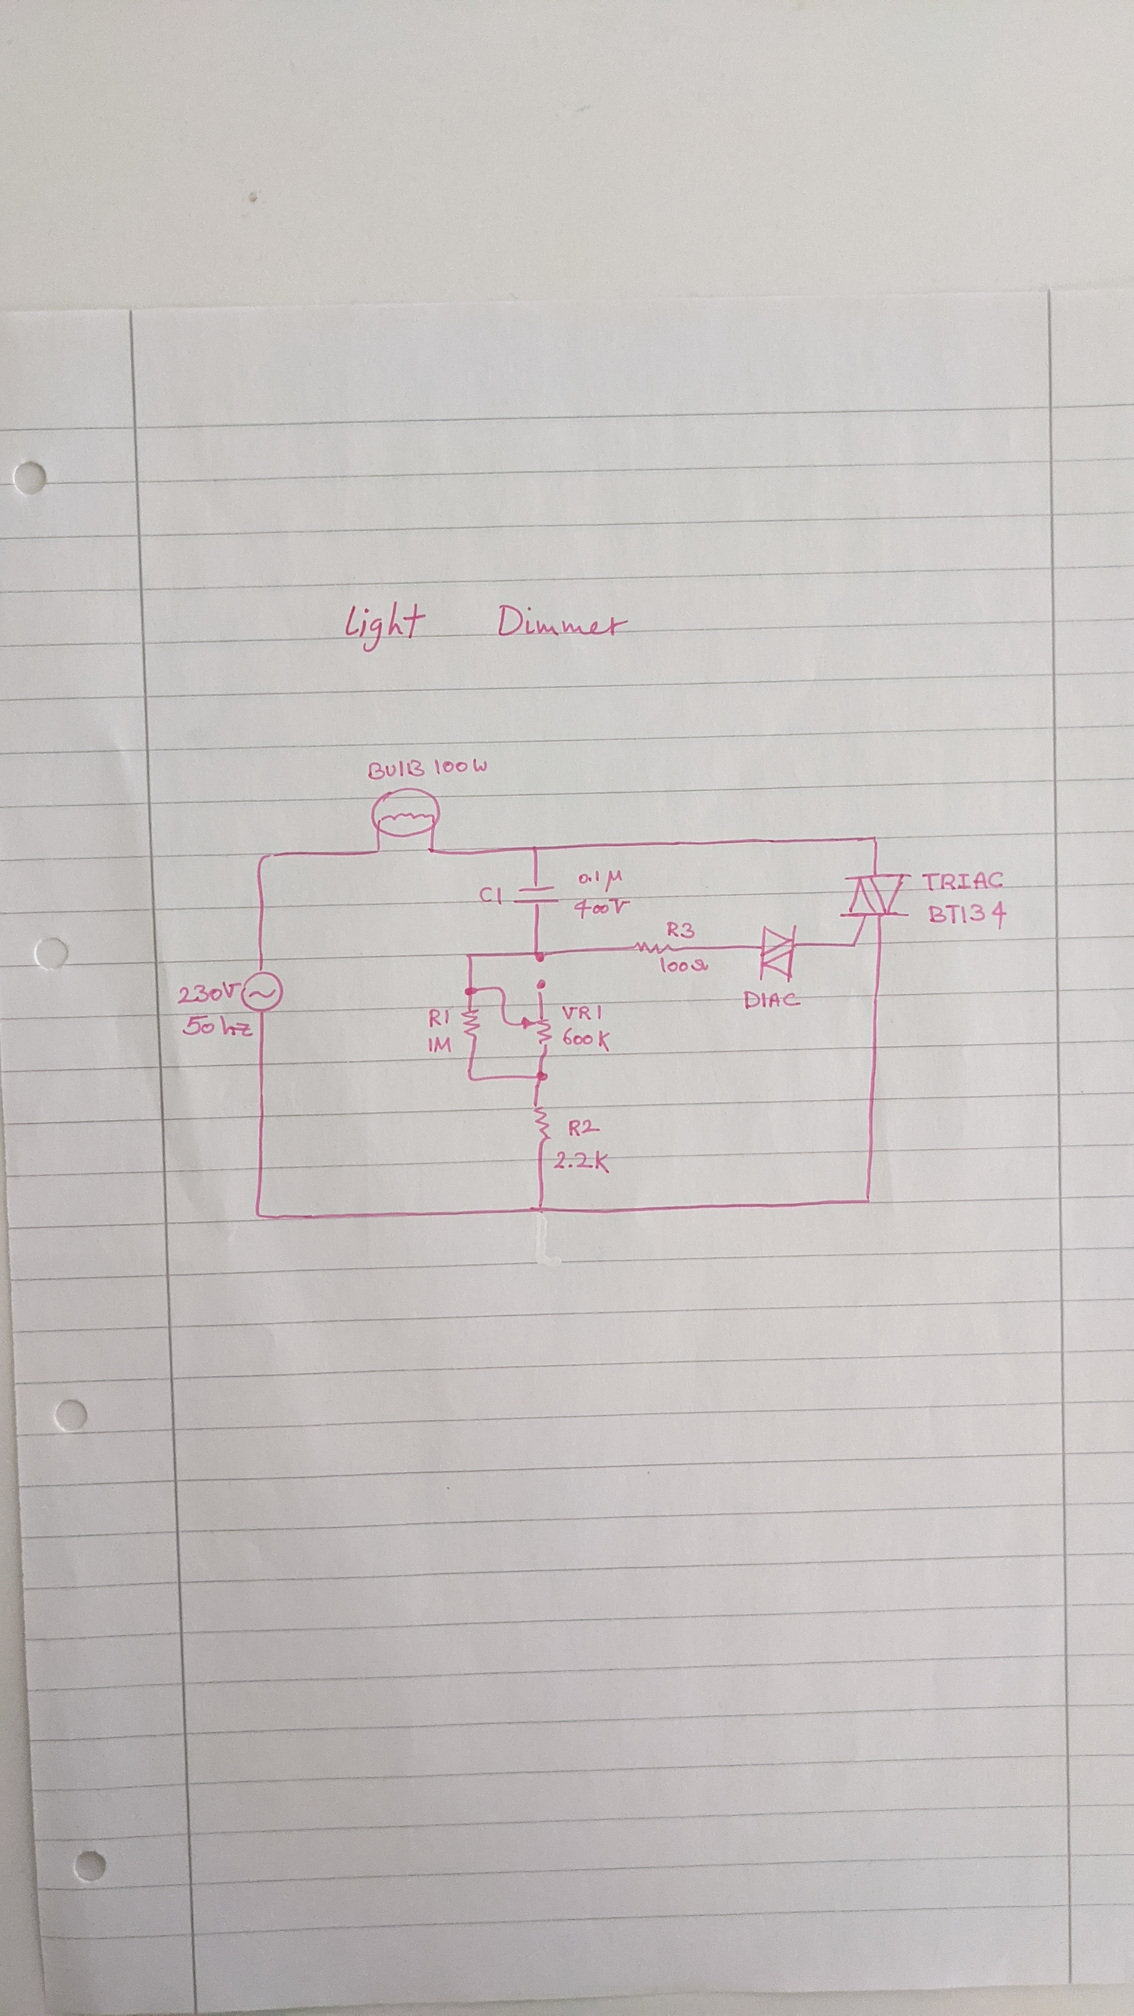capacitor.unpolarized: (511, 881, 564, 908)
diac: (753, 919, 803, 984)
junction: (253, 850, 281, 871), (530, 1199, 555, 1218), (462, 983, 485, 1000), (530, 947, 550, 965), (493, 980, 511, 1000), (532, 1068, 551, 1086), (464, 948, 480, 965), (533, 978, 548, 996), (252, 1207, 269, 1223), (424, 845, 440, 860), (528, 842, 544, 857), (847, 936, 863, 953), (860, 1192, 876, 1207), (370, 845, 386, 858), (867, 832, 883, 846), (464, 1068, 476, 1086), (498, 1014, 514, 1027)
lamp: (368, 786, 442, 839)
resistor: (529, 1099, 554, 1148), (630, 939, 683, 957), (458, 1005, 483, 1041)
resistor.adjustable: (521, 1009, 559, 1051)
text: (341, 600, 631, 655), (366, 755, 492, 784), (926, 899, 1009, 933), (919, 868, 1007, 894), (179, 1012, 256, 1041), (174, 978, 244, 1007), (561, 1025, 616, 1056), (552, 1148, 613, 1176), (741, 987, 804, 1012), (573, 894, 631, 921), (577, 865, 626, 894), (656, 954, 712, 976), (558, 1002, 604, 1022), (566, 1116, 604, 1140), (663, 918, 699, 942), (425, 1033, 456, 1056), (476, 883, 505, 907), (425, 1007, 453, 1030)
triac: (836, 871, 917, 939)
voltage.dc_ac: (240, 968, 287, 1014)
